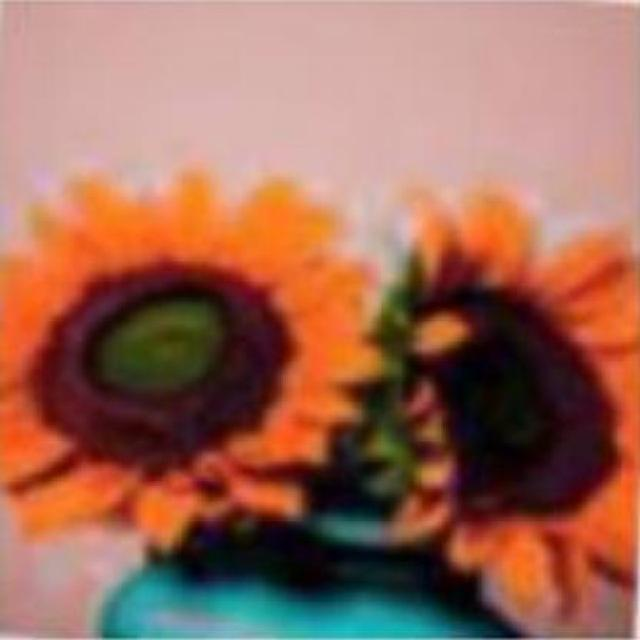sunflower: (0, 168, 382, 544), (384, 172, 634, 614)
